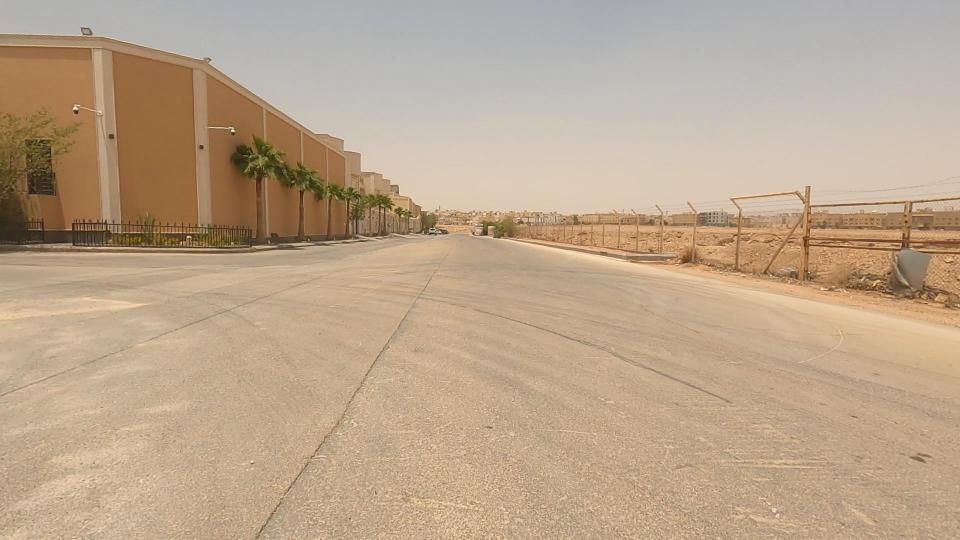GARBAGE: (826, 218, 960, 328)
